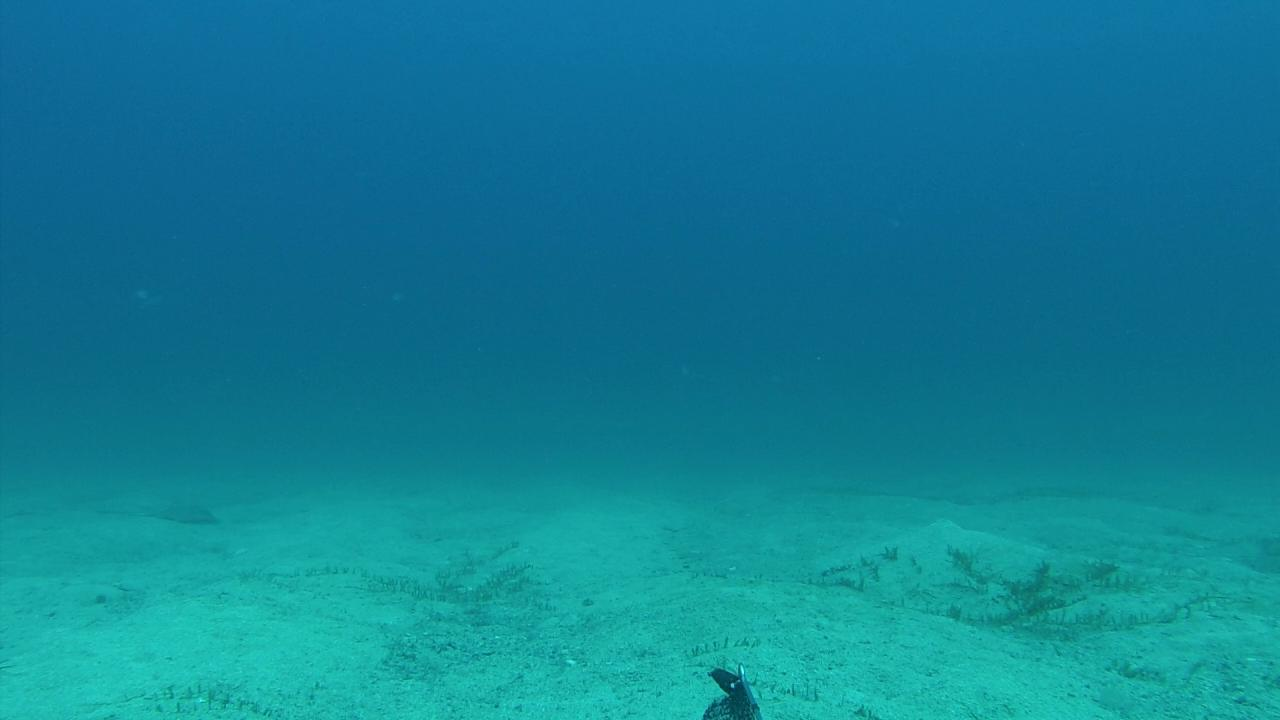dasyatis: (90, 507, 219, 524)
